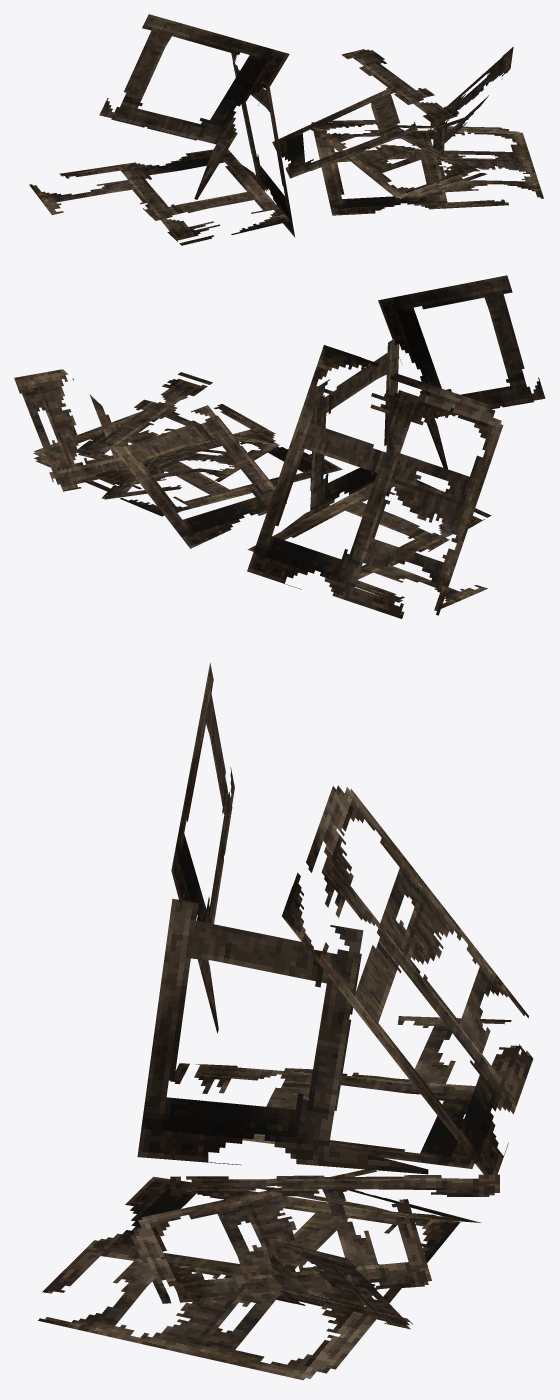
The model's file is crate_big_broken.glb.
3 views of the same model, one above another, from view 1: azimuth 30°, elevation 25°; view 2: azimuth 150°, elevation 25°; view 3: azimuth 270°, elevation 25° (orthographic). The views are drawn at different scales.
Parts seen in each view (by area): view 1: WCRATE2X; view 2: WCRATE2X; view 3: WCRATE2X.
Part boxes in pixels (x1,y1,x2,y2): WCRATE2X: (29,14,543,245); WCRATE2X: (14,275,545,618); WCRATE2X: (38,663,533,1380).
Bounding box in the file's own units: 2.03 × 1.05 × 1.26.
1 material, 1 textured.
